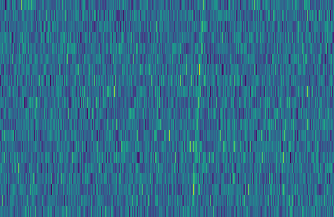signal: (187, 0, 209, 217)
